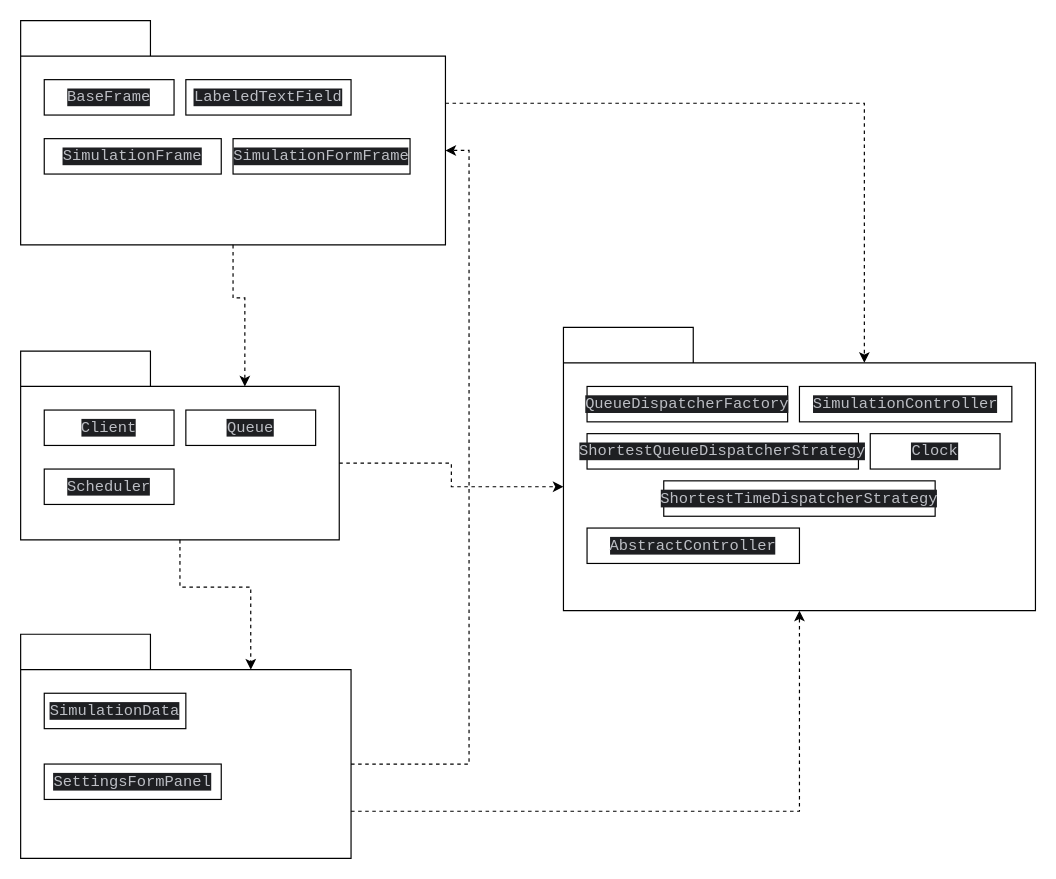
The diagram is 1056 pixels wide and 879 high, and some of its shapes have lost their labels. The shapes that lost their labels are listed below. From the top down, each one's box as (x1, y1, x2, y2) in pixels, then its label:
(19, 19, 445, 245): Presentation
(19, 350, 339, 540): Bussines
(562, 326, 1035, 611): Data Models
(19, 633, 351, 858): Data Access
